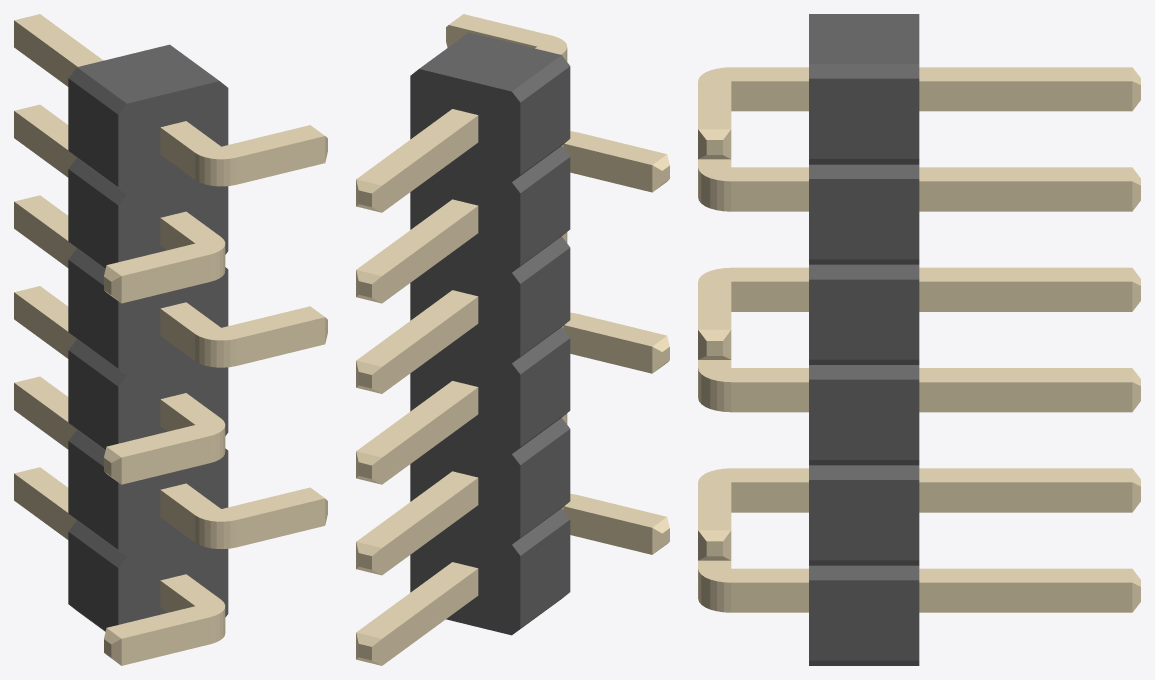
File: PinHeader_1x06_P1.00mm_Vertical_SMD_Pin1Left.glb
The picture shows the model from 3 angles, left to right: view 1: azimuth 30°, elevation 25°; view 2: azimuth 150°, elevation 25°; view 3: azimuth 270°, elevation 25°; orthographic projection. The views are drawn at different scales.
Visible parts, largest first — view 1: Shape_IndexedFaceSet.003, Shape_IndexedFaceSet.001, Shape_IndexedFaceSet.007, Shape_IndexedFaceSet.019, Shape_IndexedFaceSet.031, Shape_IndexedFaceSet.025, Shape_IndexedFaceSet.013, Shape_IndexedFaceSet.037, Shape_IndexedFaceSet.048, Shape_IndexedFaceSet.042, Shape_IndexedFaceSet.054, Shape_IndexedFaceSet.057 (+35 smaller); view 2: Shape_IndexedFaceSet.004, Shape_IndexedFaceSet.001, Shape_IndexedFaceSet.007, Shape_IndexedFaceSet.025, Shape_IndexedFaceSet.013, Shape_IndexedFaceSet.019, Shape_IndexedFaceSet.031, Shape_IndexedFaceSet.037, Shape_IndexedFaceSet.065, Shape_IndexedFaceSet.080, Shape_IndexedFaceSet.077, Shape_IndexedFaceSet.068 (+22 smaller); view 3: Shape_IndexedFaceSet.034, Shape_IndexedFaceSet.002, Shape_IndexedFaceSet.010, Shape_IndexedFaceSet.016, Shape_IndexedFaceSet.022, Shape_IndexedFaceSet.028, Shape_IndexedFaceSet.067, Shape_IndexedFaceSet.082, Shape_IndexedFaceSet.070, Shape_IndexedFaceSet.073, Shape_IndexedFaceSet.079, Shape_IndexedFaceSet.086 (+34 smaller).
Part boxes in pixels (x1,y1,x2,y2): Shape_IndexedFaceSet.003: [118, 81, 228, 624]; Shape_IndexedFaceSet.001: [77, 44, 218, 103]; Shape_IndexedFaceSet.007: [68, 78, 118, 186]; Shape_IndexedFaceSet.019: [68, 260, 118, 368]; Shape_IndexedFaceSet.031: [68, 441, 118, 549]; Shape_IndexedFaceSet.025: [68, 350, 118, 449]; Shape_IndexedFaceSet.013: [68, 169, 118, 268]; Shape_IndexedFaceSet.037: [68, 532, 118, 630]; Shape_IndexedFaceSet.048: [160, 302, 324, 340]; Shape_IndexedFaceSet.042: [160, 483, 324, 521]; Shape_IndexedFaceSet.054: [161, 121, 324, 159]; Shape_IndexedFaceSet.057: [107, 211, 225, 275]; Shape_IndexedFaceSet.004: [410, 69, 520, 635]; Shape_IndexedFaceSet.001: [419, 32, 561, 91]; Shape_IndexedFaceSet.007: [520, 66, 570, 174]; Shape_IndexedFaceSet.025: [520, 338, 570, 446]; Shape_IndexedFaceSet.013: [520, 157, 570, 265]; Shape_IndexedFaceSet.019: [520, 248, 570, 356]; Shape_IndexedFaceSet.031: [520, 429, 570, 537]; Shape_IndexedFaceSet.037: [520, 520, 570, 628]; Shape_IndexedFaceSet.065: [382, 478, 478, 575]; Shape_IndexedFaceSet.080: [382, 206, 478, 303]; Shape_IndexedFaceSet.077: [382, 115, 478, 212]; Shape_IndexedFaceSet.068: [382, 387, 478, 484]; Shape_IndexedFaceSet.034: [809, 580, 919, 660]; Shape_IndexedFaceSet.002: [809, 78, 919, 158]; Shape_IndexedFaceSet.010: [809, 179, 919, 259]; Shape_IndexedFaceSet.016: [809, 279, 919, 359]; Shape_IndexedFaceSet.022: [809, 379, 919, 459]; Shape_IndexedFaceSet.028: [809, 480, 919, 560]; Shape_IndexedFaceSet.067: [919, 482, 1132, 512]; Shape_IndexedFaceSet.082: [919, 181, 1132, 211]; Shape_IndexedFaceSet.070: [919, 382, 1132, 412]; Shape_IndexedFaceSet.073: [919, 281, 1132, 311]; Shape_IndexedFaceSet.079: [919, 81, 1132, 111]; Shape_IndexedFaceSet.086: [919, 582, 1132, 612].
Bounding box in the file's own units: 0.984 × 2.36 × 1.58.
